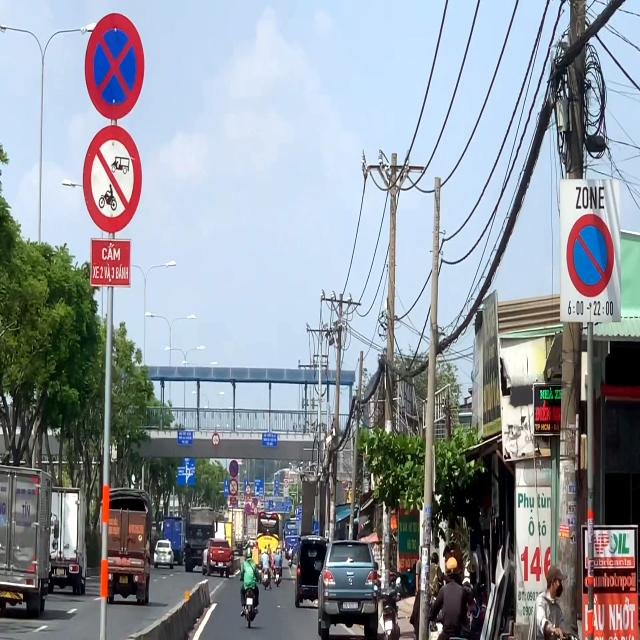P.117: (212, 433, 219, 446)
P.130: (84, 12, 145, 120), (229, 460, 239, 478)
P.131a: (566, 213, 614, 298)
